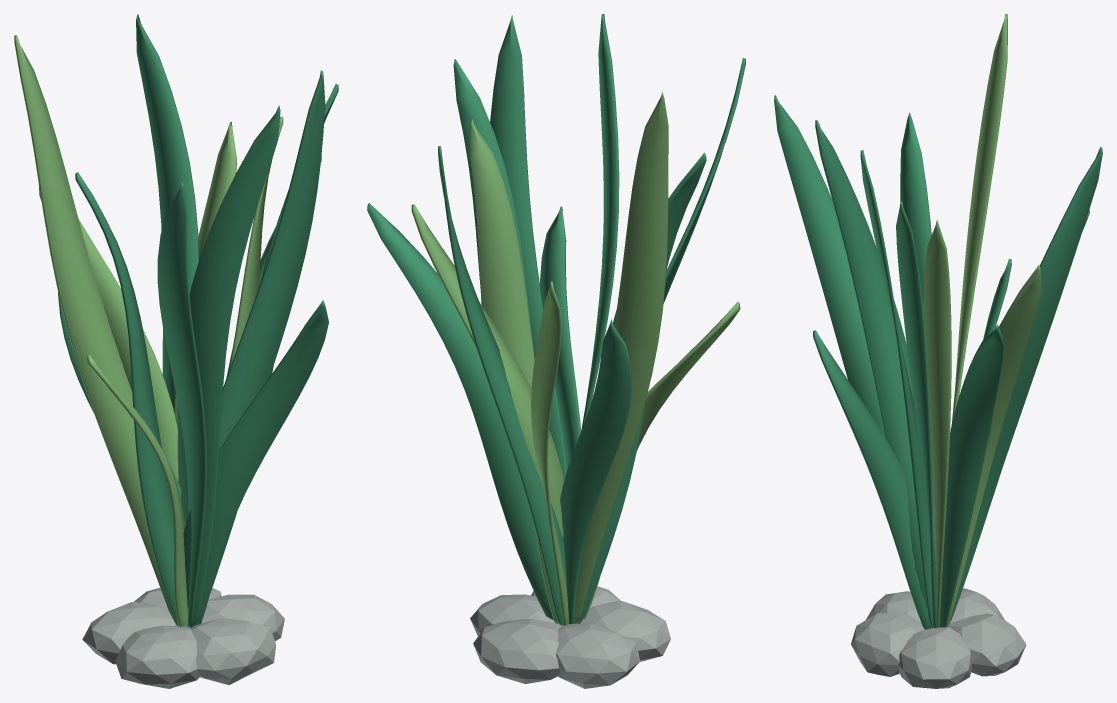
Rendered from ribbon-grass.glb.
The picture shows the model from 3 angles, left to right: view 1: azimuth 30°, elevation 25°; view 2: azimuth 150°, elevation 25°; view 3: azimuth 270°, elevation 25°; orthographic projection. The views are drawn at different scales.
Visible parts, largest first — view 1: Rippling grass blade.009, Rippling grass blade.002, Rippling grass blade.005, Rippling grass blade.010, Rippling grass blade.007, Rippling grass blade.004, Rippling grass blade.011, Root pebble.004, Root pebble.003, Rippling grass blade.006, Rippling grass blade.012, Root pebble.002 (+5 smaller); view 2: Rippling grass blade.009, Rippling grass blade.008, Rippling grass blade.001, Rippling grass blade, Rippling grass blade.005, Rippling grass blade.011, Rippling grass blade.002, Rippling grass blade.003, Rippling grass blade.006, Root pebble.001, Root pebble.002, Rippling grass blade.010 (+6 smaller); view 3: Rippling grass blade.002, Rippling grass blade.007, Rippling grass blade.008, Rippling grass blade.011, Rippling grass blade, Rippling grass blade.010, Rippling grass blade.009, Rippling grass blade.013, Rippling grass blade.003, Rippling grass blade.005, Root pebble, Root pebble.001 (+5 smaller).
Part boxes in pixels (left/top/right/bottom): Rippling grass blade.009: left=14, top=35, right=172, bottom=617; Rippling grass blade.002: left=178, top=105, right=280, bottom=626; Rippling grass blade.005: left=185, top=70, right=325, bottom=524; Rippling grass blade.010: left=183, top=300, right=328, bottom=625; Rippling grass blade.007: left=157, top=182, right=206, bottom=627; Rippling grass blade.004: left=75, top=172, right=178, bottom=625; Rippling grass blade.011: left=136, top=14, right=198, bottom=483; Root pebble.004: left=191, top=618, right=275, bottom=684; Root pebble.003: left=115, top=625, right=200, bottom=688; Rippling grass blade.006: left=38, top=184, right=188, bottom=623; Rippling grass blade.012: left=87, top=354, right=187, bottom=626; Root pebble.002: left=82, top=602, right=176, bottom=664; Rippling grass blade.009: left=574, top=92, right=668, bottom=623; Rippling grass blade.008: left=367, top=203, right=553, bottom=620; Rippling grass blade.001: left=560, top=319, right=631, bottom=624; Rippling grass blade: left=470, top=119, right=534, bottom=387; Rippling grass blade.005: left=490, top=15, right=567, bottom=480; Rippling grass blade.011: left=438, top=146, right=566, bottom=625; Rippling grass blade.002: left=581, top=14, right=619, bottom=430; Rippling grass blade.003: left=411, top=204, right=563, bottom=623; Rippling grass blade.006: left=531, top=281, right=568, bottom=625; Root pebble.001: left=473, top=619, right=561, bottom=683; Root pebble.002: left=556, top=623, right=639, bottom=688; Rippling grass blade.010: left=540, top=206, right=581, bottom=622; Rippling grass blade.002: left=815, top=120, right=927, bottom=609; Rippling grass blade.007: left=774, top=95, right=885, bottom=438; Rippling grass blade.008: left=939, top=324, right=1004, bottom=627; Rippling grass blade.011: left=950, top=146, right=1102, bottom=620; Rippling grass blade: left=923, top=219, right=951, bottom=627; Rippling grass blade.010: left=813, top=330, right=928, bottom=629; Rippling grass blade.009: left=951, top=14, right=1007, bottom=424; Rippling grass blade.013: left=896, top=201, right=936, bottom=627; Rippling grass blade.003: left=946, top=264, right=1041, bottom=627; Rippling grass blade.005: left=860, top=150, right=933, bottom=628; Root pebble: left=898, top=627, right=971, bottom=688; Root pebble.001: left=947, top=613, right=1026, bottom=676.
Bounding box in the file's own units: 1.35 × 2.69 × 1.36.
